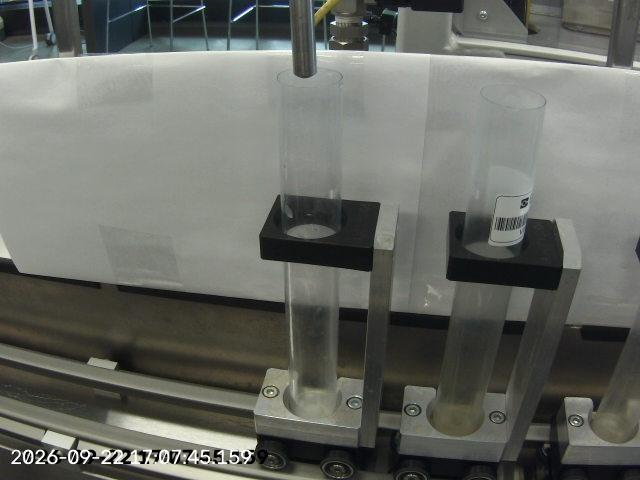vial: (430, 82, 547, 435), (277, 66, 345, 416)
